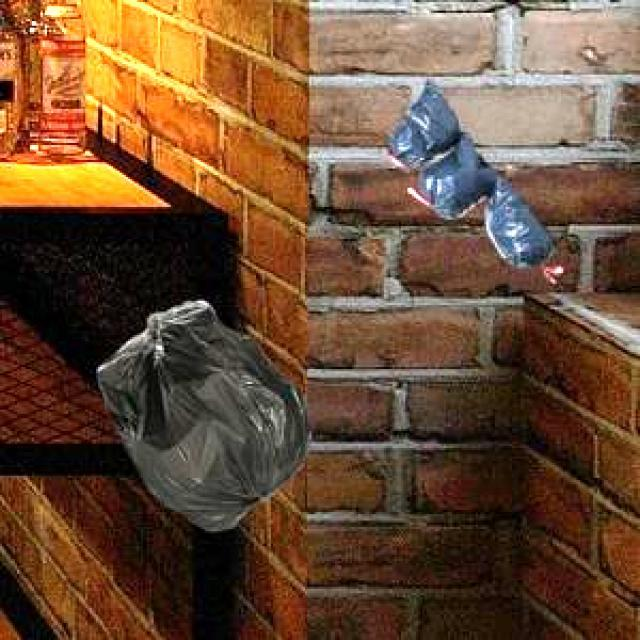Garbage_Bag: (94, 297, 308, 528), (386, 76, 554, 266)
